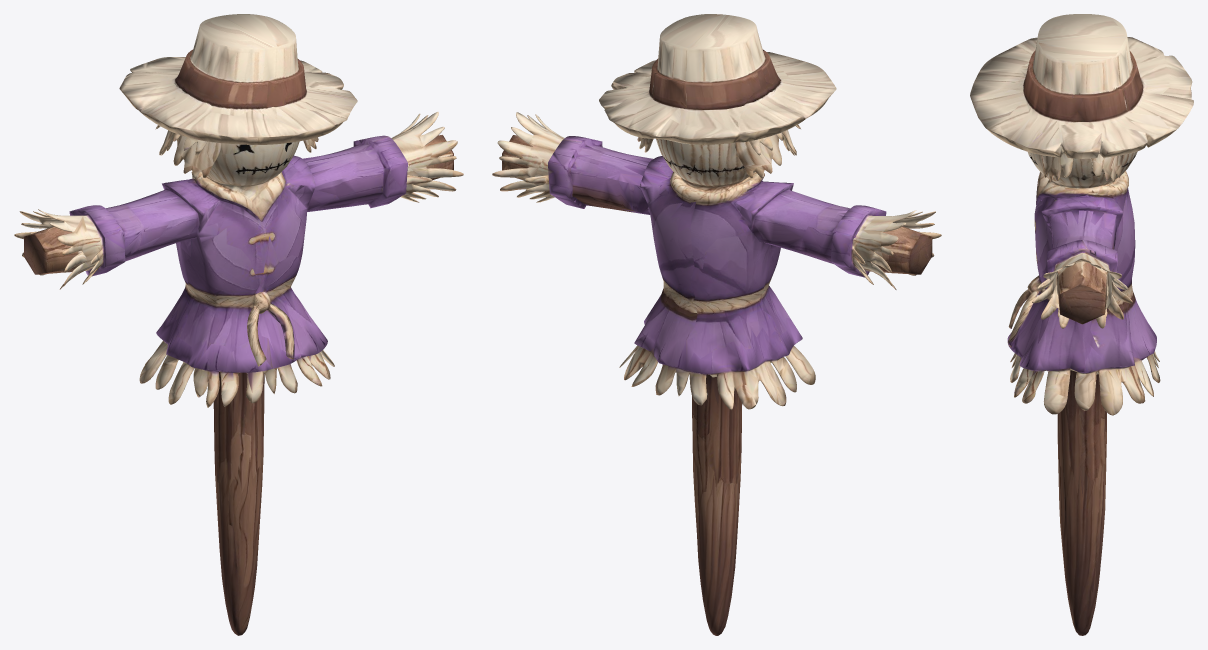
File: scarecrow.glb
3 views of the same model, side by side, from view 1: azimuth 30°, elevation 25°; view 2: azimuth 150°, elevation 25°; view 3: azimuth 270°, elevation 25° (orthographic).
Visible parts, largest first — view 1: scarecrow; view 2: scarecrow; view 3: scarecrow.
Part boxes in pixels (left/top/right/bottom): scarecrow: left=14, top=14, right=463, bottom=635; scarecrow: left=492, top=14, right=941, bottom=635; scarecrow: left=970, top=14, right=1193, bottom=635.
Bounding box in the file's own units: 1.3 × 1.85 × 0.6189.
Materials: 1 (1 with a texture image).
